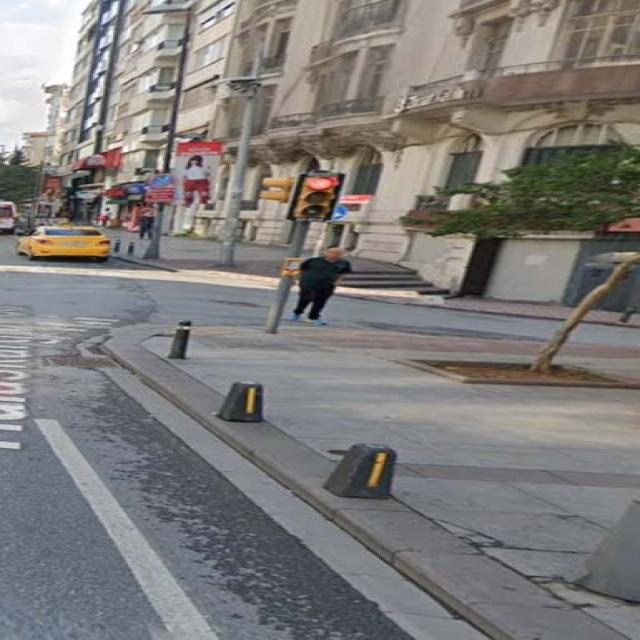kirmizi: (301, 172, 331, 222)
